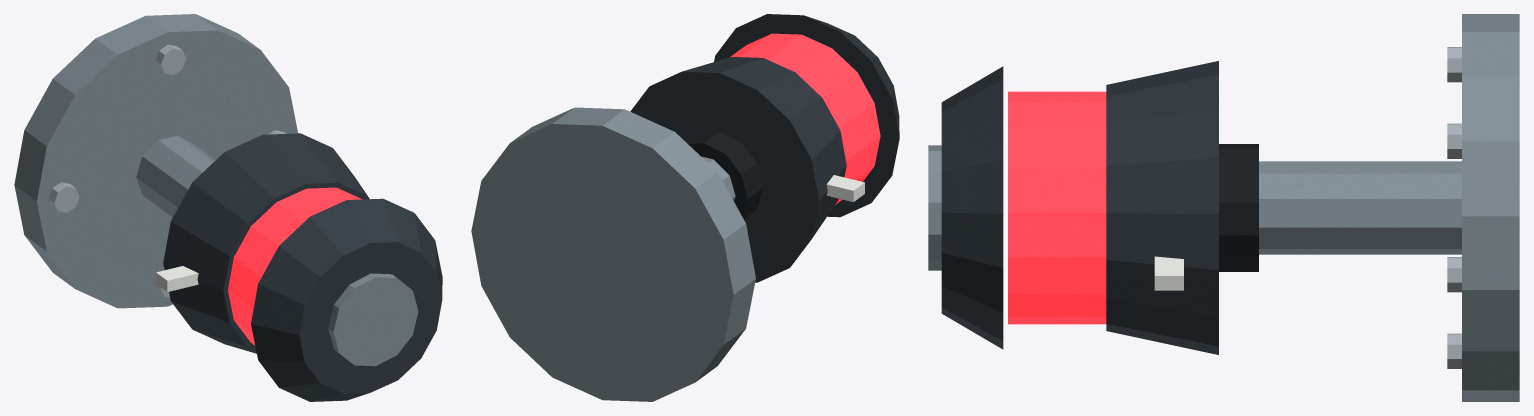
Rendered from PZ_Runway_End_Red.glb.
The picture shows the model from 3 angles, left to right: view 1: azimuth 30°, elevation 25°; view 2: azimuth 150°, elevation 25°; view 3: azimuth 270°, elevation 25°; orthographic projection. The views are drawn at different scales.
Parts seen in each view (by area): view 1: PZ_Runway_End_Red__Footplate_DieCast, PZ_Runway_End_Red__Top_WeatherCap, PZ_Runway_End_Red__Optic_LowerHousing, PZ_Runway_End_Red__Cap_Crown, PZ_Runway_End_Red__Optic_Lens_red_lens, PZ_Runway_End_Red__Frangible_Stem, PZ_Runway_End_Red; view 2: PZ_Runway_End_Red__Footplate_DieCast, PZ_Runway_End_Red__Optic_LowerHousing, PZ_Runway_End_Red__Optic_Lens_red_lens, PZ_Runway_End_Red__Top_WeatherCap, PZ_Runway_End_Red__Stem_Seal, PZ_Runway_End_Red; view 3: PZ_Runway_End_Red__Optic_LowerHousing, PZ_Runway_End_Red__Optic_Lens_red_lens, PZ_Runway_End_Red__Footplate_DieCast, PZ_Runway_End_Red__Frangible_Stem, PZ_Runway_End_Red__Top_WeatherCap, PZ_Runway_End_Red__Stem_Seal, PZ_Runway_End_Red, PZ_Runway_End_Red__Cap_Crown.
Boxes of the visible parts, x1,y1,x2,y2 form: PZ_Runway_End_Red__Footplate_DieCast: [14, 14, 297, 308]; PZ_Runway_End_Red__Top_WeatherCap: [251, 198, 442, 401]; PZ_Runway_End_Red__Optic_LowerHousing: [163, 133, 369, 353]; PZ_Runway_End_Red__Cap_Crown: [328, 273, 418, 366]; PZ_Runway_End_Red__Optic_Lens_red_lens: [228, 187, 361, 345]; PZ_Runway_End_Red__Frangible_Stem: [136, 135, 215, 217]; PZ_Runway_End_Red: [48, 44, 285, 297]; PZ_Runway_End_Red__Footplate_DieCast: [471, 107, 755, 401]; PZ_Runway_End_Red__Optic_LowerHousing: [630, 57, 846, 282]; PZ_Runway_End_Red__Optic_Lens_red_lens: [730, 33, 880, 204]; PZ_Runway_End_Red__Top_WeatherCap: [714, 14, 899, 217]; PZ_Runway_End_Red__Stem_Seal: [685, 131, 762, 219]; PZ_Runway_End_Red: [826, 175, 864, 201]; PZ_Runway_End_Red__Optic_LowerHousing: [1106, 61, 1218, 354]; PZ_Runway_End_Red__Optic_Lens_red_lens: [1008, 91, 1106, 324]; PZ_Runway_End_Red__Footplate_DieCast: [1462, 14, 1519, 401]; PZ_Runway_End_Red__Frangible_Stem: [1259, 161, 1461, 254]; PZ_Runway_End_Red__Top_WeatherCap: [941, 66, 1003, 349]; PZ_Runway_End_Red__Stem_Seal: [1219, 144, 1258, 271]; PZ_Runway_End_Red: [1154, 47, 1461, 368]; PZ_Runway_End_Red__Cap_Crown: [928, 145, 941, 270].
Size of the model in its own units: 0.29 by 0.29 by 0.4415.
Materials: 2 (2 with a texture image).
